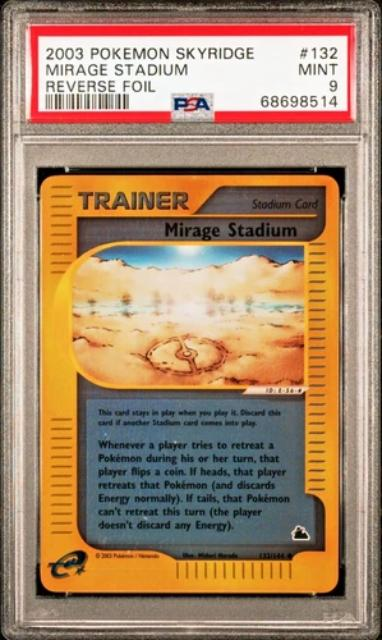Card: (34, 168, 344, 600)
Name: (158, 216, 308, 244)
